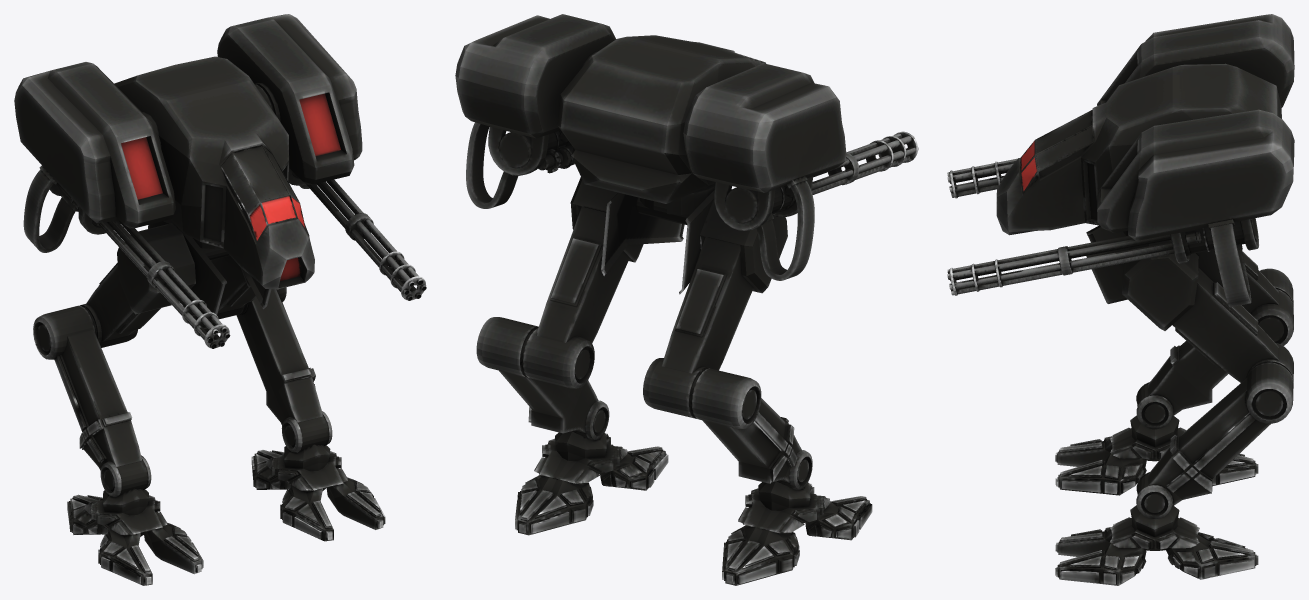
The model's file is 3D_Robot.FBX.
3 renders of one model, left to right at view 1: azimuth 30°, elevation 25°; view 2: azimuth 150°, elevation 25°; view 3: azimuth 270°, elevation 25°, orthographic. The views are drawn at different scales.
Visible parts, largest first — view 1: 3D_Robot; view 2: 3D_Robot; view 3: 3D_Robot.
Part boxes in pixels (x1,y1,x2,y2): 3D_Robot: (14, 14, 426, 585); 3D_Robot: (455, 14, 918, 585); 3D_Robot: (947, 14, 1294, 585).
Size of the model in its own units: 53.54 by 75.45 by 53.13.
